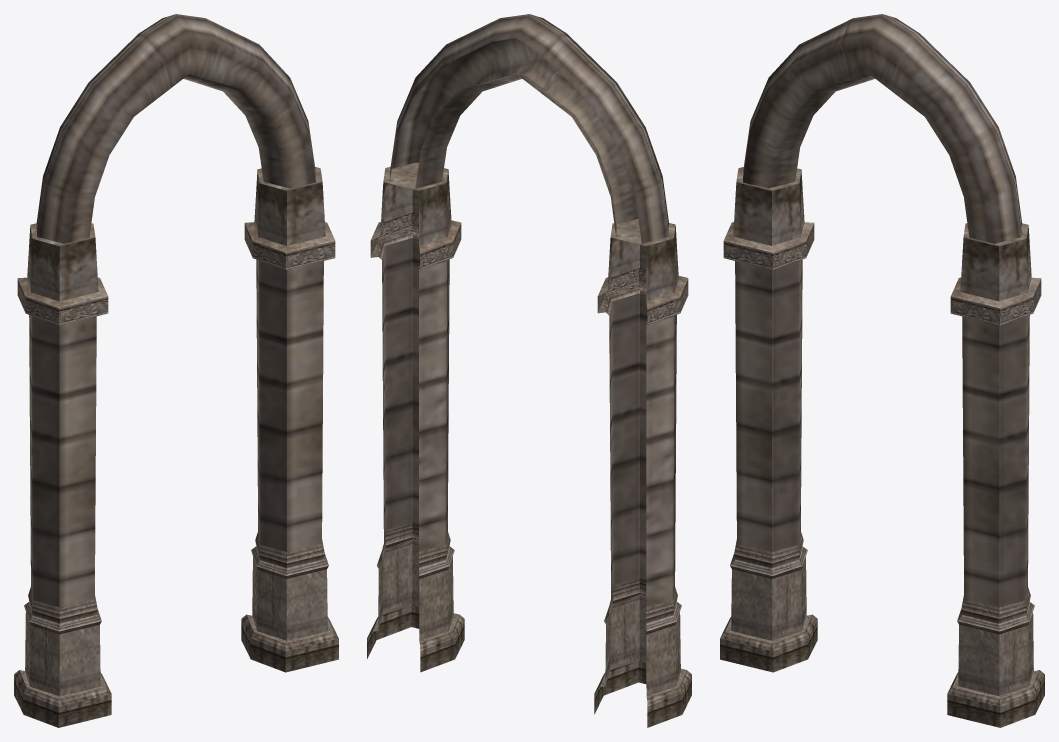
Rendered from SM_zhucheng_CastleArch_01.FBX.
3 renders of one model, left to right at view 1: azimuth 30°, elevation 25°; view 2: azimuth 150°, elevation 25°; view 3: azimuth 330°, elevation 25°, orthographic.
Visible parts, largest first — view 1: SM_zhucheng_CastleArch_01; view 2: SM_zhucheng_CastleArch_01; view 3: SM_zhucheng_CastleArch_01.
Part boxes in pixels (box(x1,y1,x2,y2)): SM_zhucheng_CastleArch_01: box(14, 14, 338, 727); SM_zhucheng_CastleArch_01: box(367, 14, 691, 727); SM_zhucheng_CastleArch_01: box(720, 14, 1044, 727).
Size of the model in its own units: 110 by 229 by 27.76.
